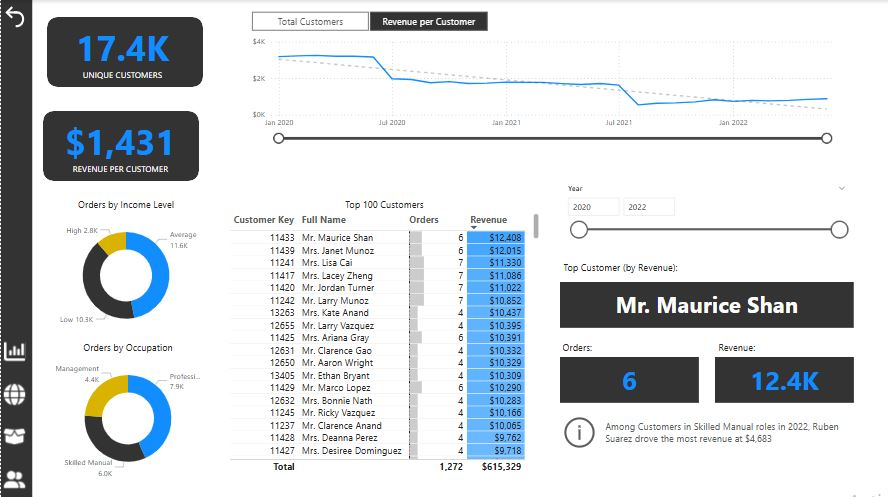

What the dashboard file says about the page in this screenshot:
{"tool":"powerbi","page":{"name":"Customer Detail","canvas":[1280,720],"ordinal":3},"visuals":[{"type":"shape","box":[0,0,45,720],"z":0},{"type":"shape","box":[66.7,24.5,224.6,100.8],"z":1000},{"type":"actionButton","box":[0,486.7,67.7,38.9],"z":1000,"group":"g1"},{"type":"shape","box":[60.5,159.8,224.6,100.8],"z":2000},{"type":"actionButton","box":[0,609.6,67.7,38.9],"z":2000,"group":"g1"},{"type":"card","fields":{"Values":["Measure Table.Average Revenue per Customer"]},"box":[50.4,135.4,243.4,149.8],"z":3000},{"type":"actionButton","box":[0,671,67.7,38.9],"z":3000,"group":"g1"},{"type":"card","fields":{"Values":["Measure Table.Total Customers"]},"box":[53.8,0,243.4,149.8],"z":4000},{"type":"actionButton","box":[0,548.1,67.7,38.9],"z":4000,"group":"g1"},{"type":"lineChart","fields":{"Y":["Measure Table.Average Revenue per Customer"],"Category":["Calendar Lookup.Date Hierarchy.Start of Year","Calendar Lookup.Date Hierarchy.Start of Month","Calendar Lookup.Date Hierarchy.Start of Week","Calendar Lookup.Date Hierarchy.Date"]},"box":[357.1,46.1,858.2,164.2],"z":5000},{"type":"donutChart","title":"Orders by Income Level","fields":{"Category":["Customer Lookup.Income Level"],"Y":["Measure Table.Total Orders"]},"box":[66.2,285.1,227.5,205.9],"z":6000},{"type":"donutChart","title":"Orders by Occupation","fields":{"Y":["Measure Table.Total Orders"],"Category":["Customer Lookup.Occupation"]},"box":[69.1,491,227.5,205.9],"z":7000},{"type":"tableEx","title":"Top 100 Customers","fields":{"Values":["Customer Lookup.CustomerKey","Customer Lookup.Full Name","Measure Table.Total Orders","Measure Table.Total Revenue"]},"box":[324,285.1,456.5,398.9],"z":8000},{"type":"card","fields":{"Values":["Measure Table.Full Name (Customer Detail)"]},"box":[805,406.1,423.4,66.2],"z":9000},{"type":"card","fields":{"Values":["Measure Table.Total Orders (Customer Detail)"]},"box":[805,514.1,200,66.2],"z":10000},{"type":"card","fields":{"Values":["Measure Table.Total Revenue (Customer Detail)"]},"box":[1028.2,514.1,200.2,66.2],"z":11000},{"type":"textbox","box":[805,371.5,187.2,38.9],"z":12000},{"type":"textbox","box":[803.5,486.7,187.2,38.9],"z":13000},{"type":"textbox","box":[1028.2,486.7,187.2,38.9],"z":14000},{"type":"slicer","fields":{"Values":["Calendar Lookup.Start of Month.Variation.Date Hierarchy.Year"]},"box":[803.5,260.6,424.8,99.4],"z":15000},{"type":"actionButton","box":[805,594.7,423.4,56.2],"z":16000},{"type":"actionButton","box":[0,2.9,40.3,43.2],"z":17000},{"type":"group","id":"g1","title":"Navigation Buttons","box":[0,486.7,67.7,223.2],"z":18000},{"type":"slicer","fields":{"Values":["Customer Metric selection.Customer Metric selection"]},"box":[335.5,10.1,388.8,36],"z":18501}]}

Visuals, with their boxes on the page's 1280x720 design canvas (x1, y1, x2, y2). These are canvas units, not pixel positions in the 888x497 screenshot, which may show the page scaled, cropped or inside an application window:
shape: box(0, 0, 45, 720)
shape: box(67, 24, 291, 125)
actionButton: box(0, 487, 68, 526)
shape: box(60, 160, 285, 261)
actionButton: box(0, 610, 68, 648)
card - Measure Table.Average Revenue per Customer: box(50, 135, 294, 285)
actionButton: box(0, 671, 68, 710)
card - Measure Table.Total Customers: box(54, 0, 297, 150)
actionButton: box(0, 548, 68, 587)
lineChart - Measure Table.Average Revenue per Customer x Calendar Lookup.Date Hierarchy.Start of Year: box(357, 46, 1215, 210)
"Orders by Income Level" donutChart: box(66, 285, 294, 491)
"Orders by Occupation" donutChart: box(69, 491, 297, 697)
"Top 100 Customers" tableEx: box(324, 285, 780, 684)
card - Measure Table.Full Name (Customer Detail): box(805, 406, 1228, 472)
card - Measure Table.Total Orders (Customer Detail): box(805, 514, 1005, 580)
card - Measure Table.Total Revenue (Customer Detail): box(1028, 514, 1228, 580)
textbox: box(805, 372, 992, 410)
textbox: box(804, 487, 991, 526)
textbox: box(1028, 487, 1215, 526)
slicer - Calendar Lookup.Start of Month.Variation.Date Hierarchy.Year: box(804, 261, 1228, 360)
actionButton: box(805, 595, 1228, 651)
actionButton: box(0, 3, 40, 46)
"Navigation Buttons" group: box(0, 487, 68, 710)
slicer - Customer Metric selection.Customer Metric selection: box(336, 10, 724, 46)
